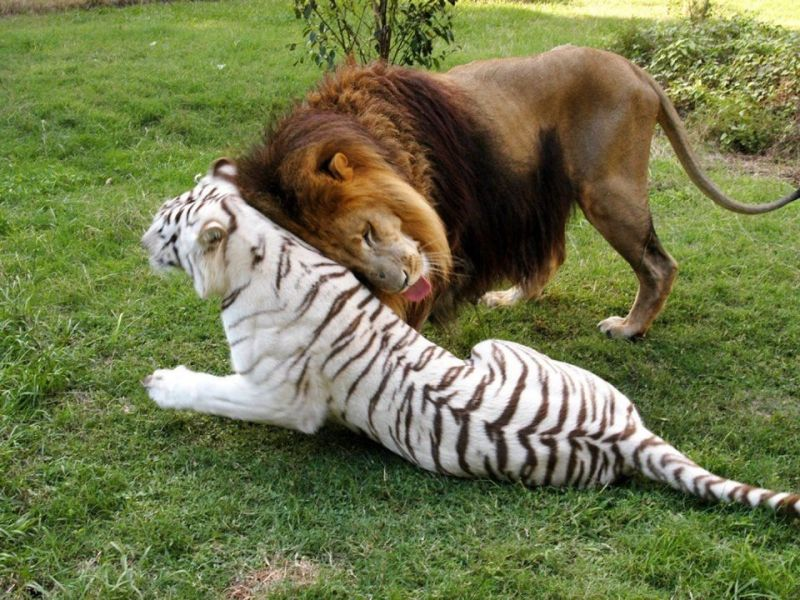lion: (254, 51, 683, 326)
tiger: (134, 158, 643, 493)
